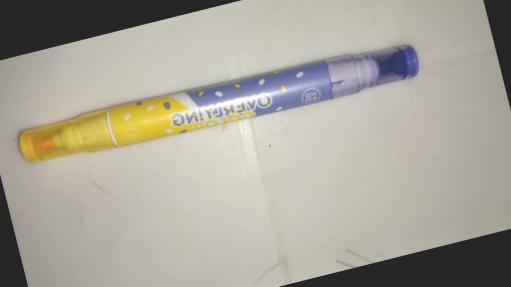Highlighter: (11, 31, 422, 177)
